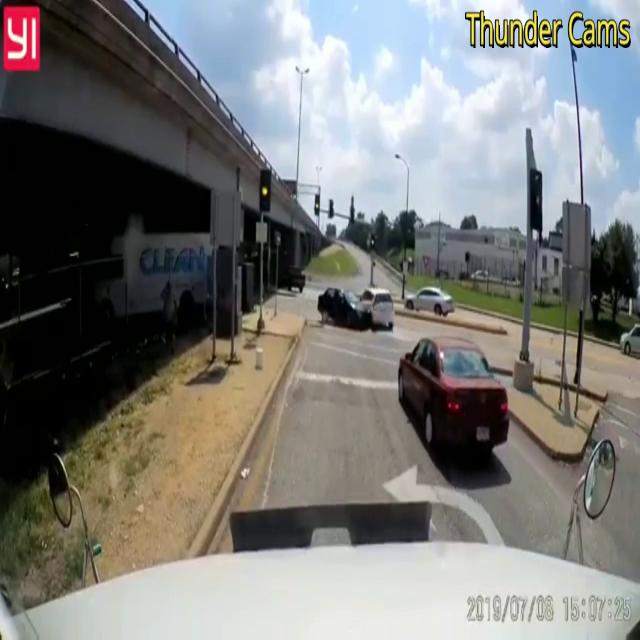accident: (314, 277, 397, 332)
